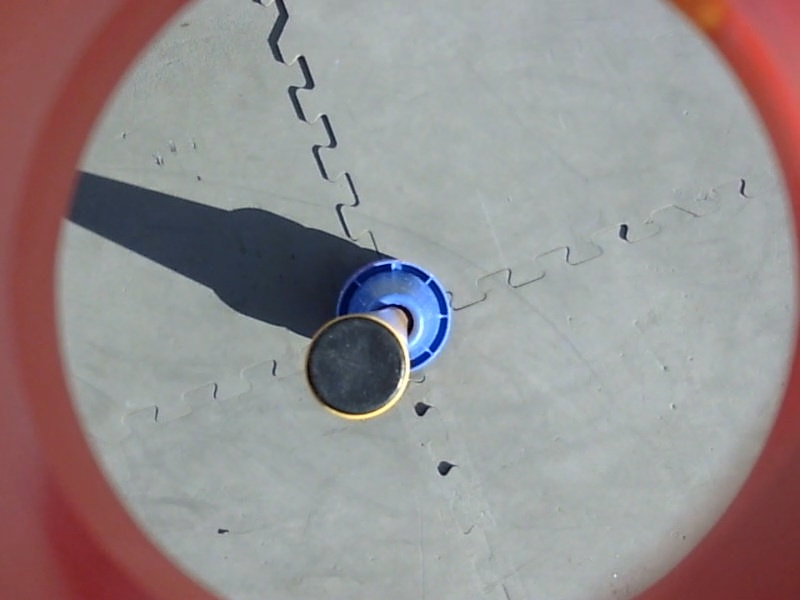tip: (298, 308, 410, 423)
